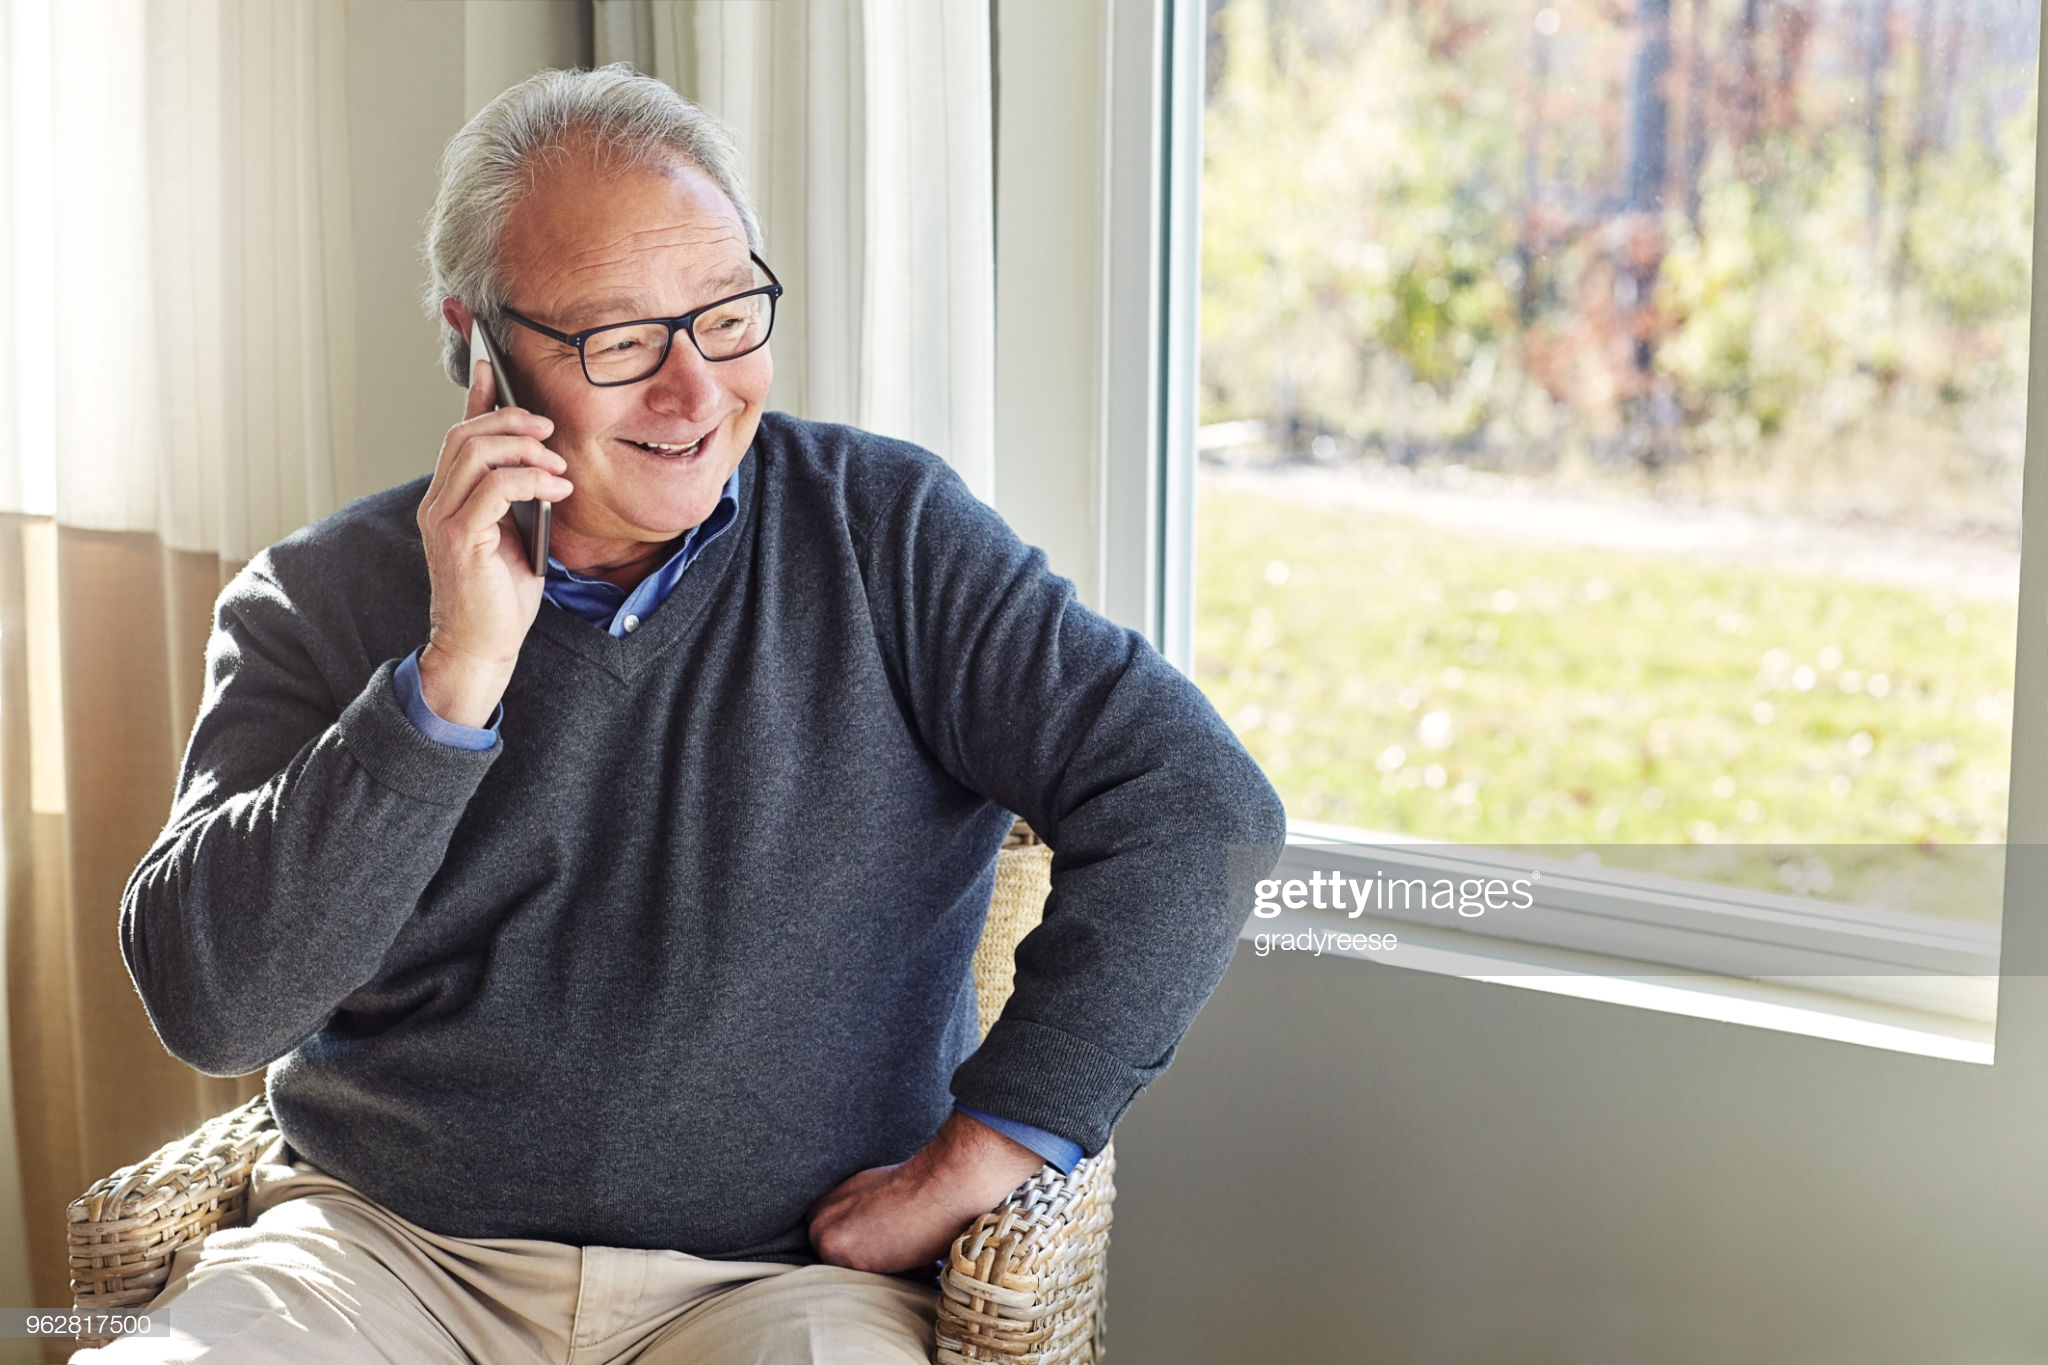phone: (435, 308, 588, 565)
talk: (400, 248, 777, 651)
